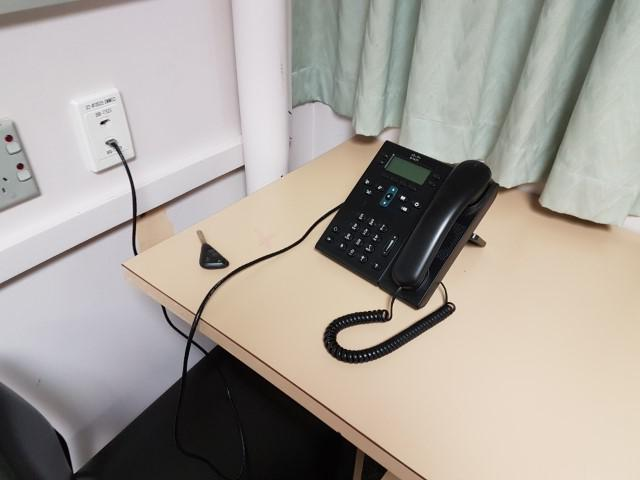key: (196, 230, 229, 268)
